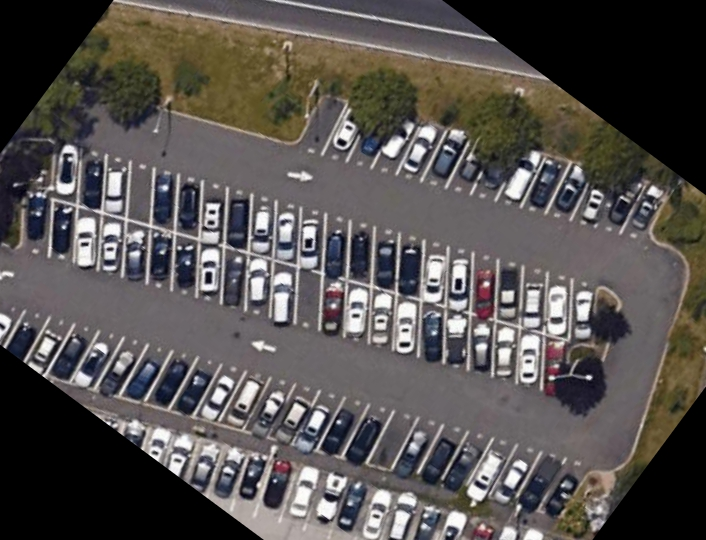parkingspot: (19, 134, 601, 410), (0, 299, 601, 524), (82, 405, 576, 540), (290, 92, 678, 244)
